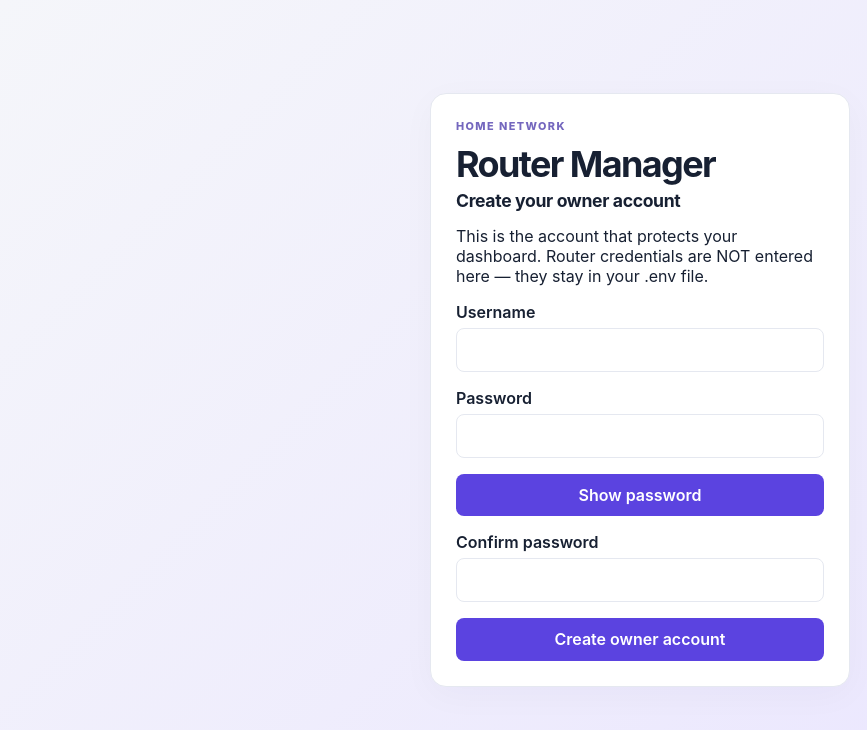
first-run owner form › shows server validation errors
Step 1. Type "owner" into the field labelled "Username" → (640, 350), box 456,328 -> 824,372
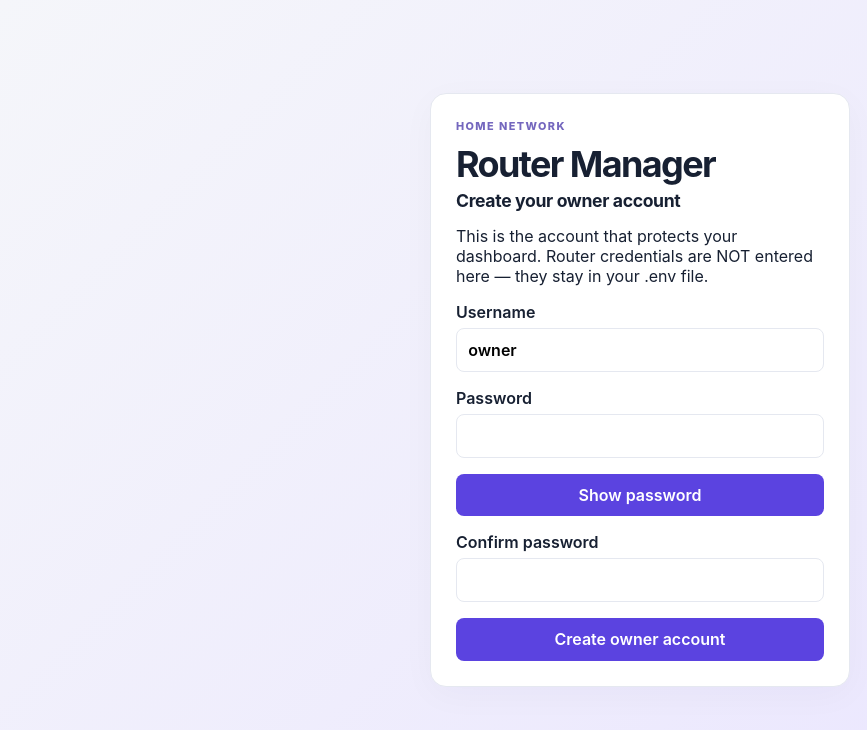
Step 2. Type "long-password" into the password field labelled "Password" → (640, 436), box 456,414 -> 824,458
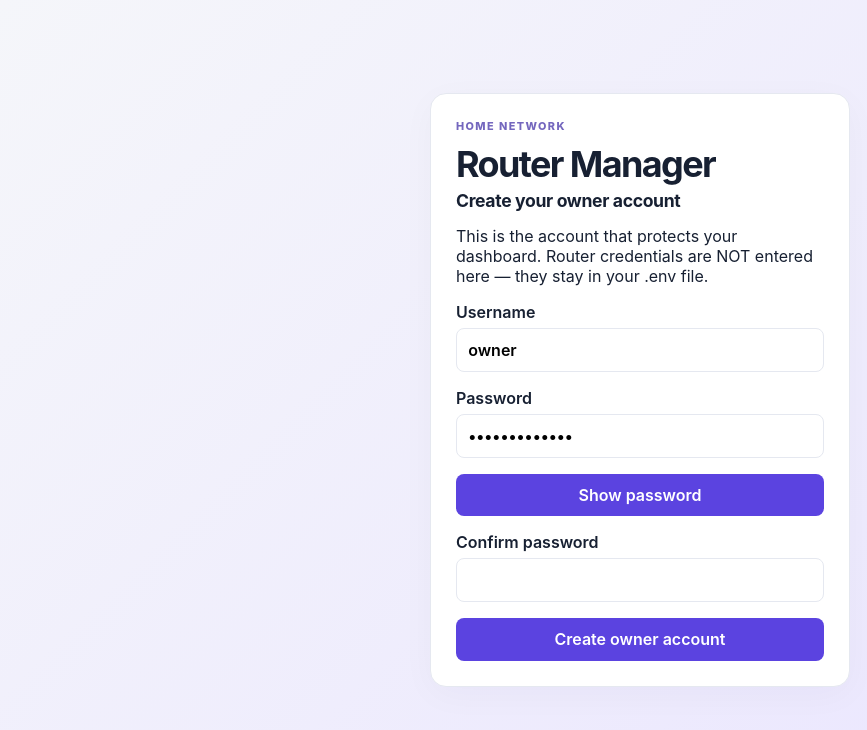
Step 3. Type "long-password" into the password field labelled "Confirm password" → (640, 580), box 456,558 -> 824,602
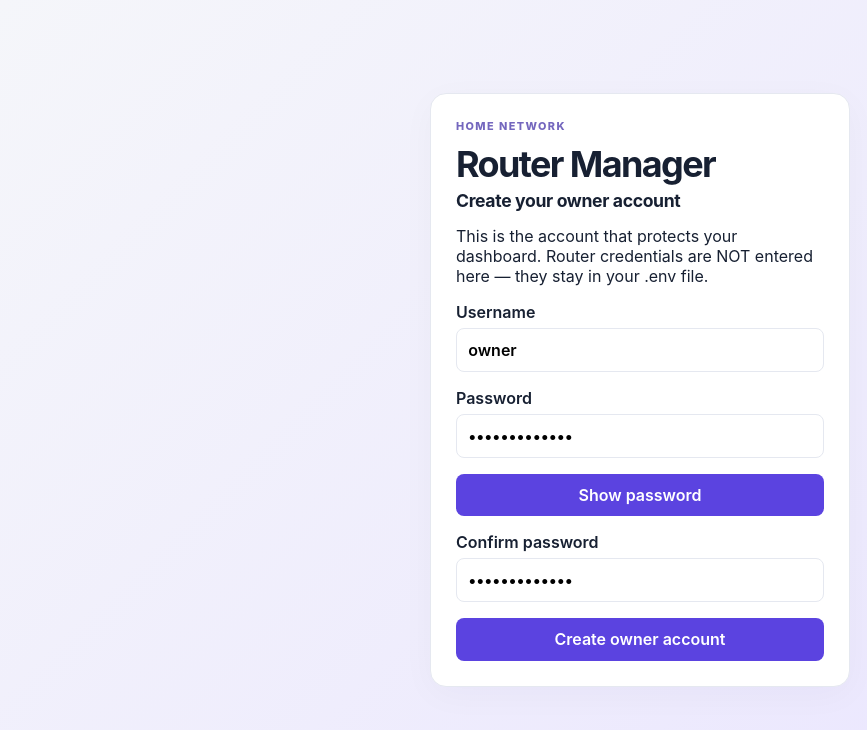
Step 4. Click the button "Create owner account" → (640, 640), box 456,618 -> 824,661
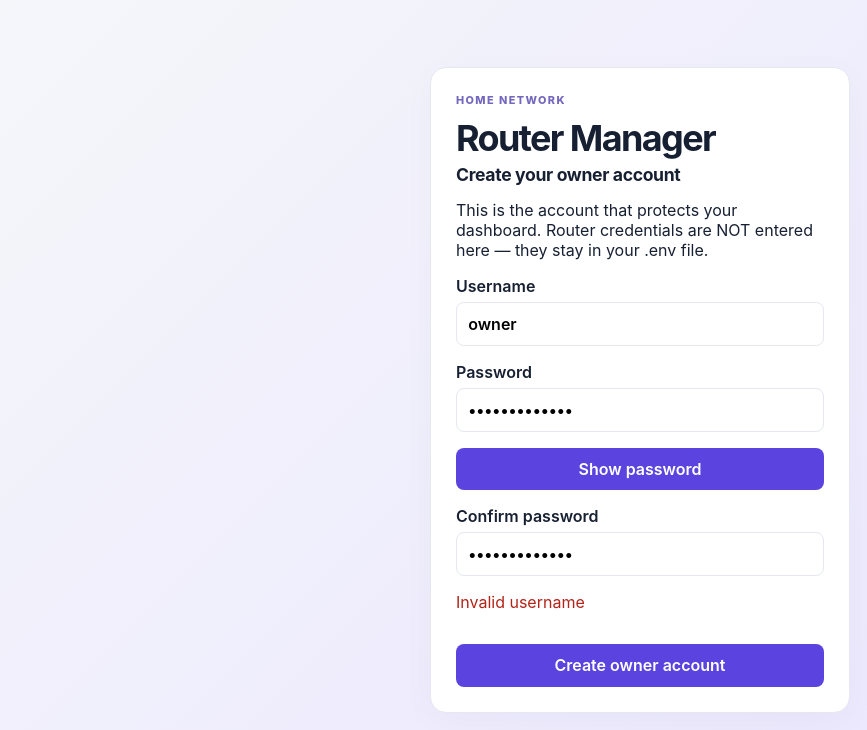
Check: the message reads "Invalid username", box 456,592 -> 585,612
